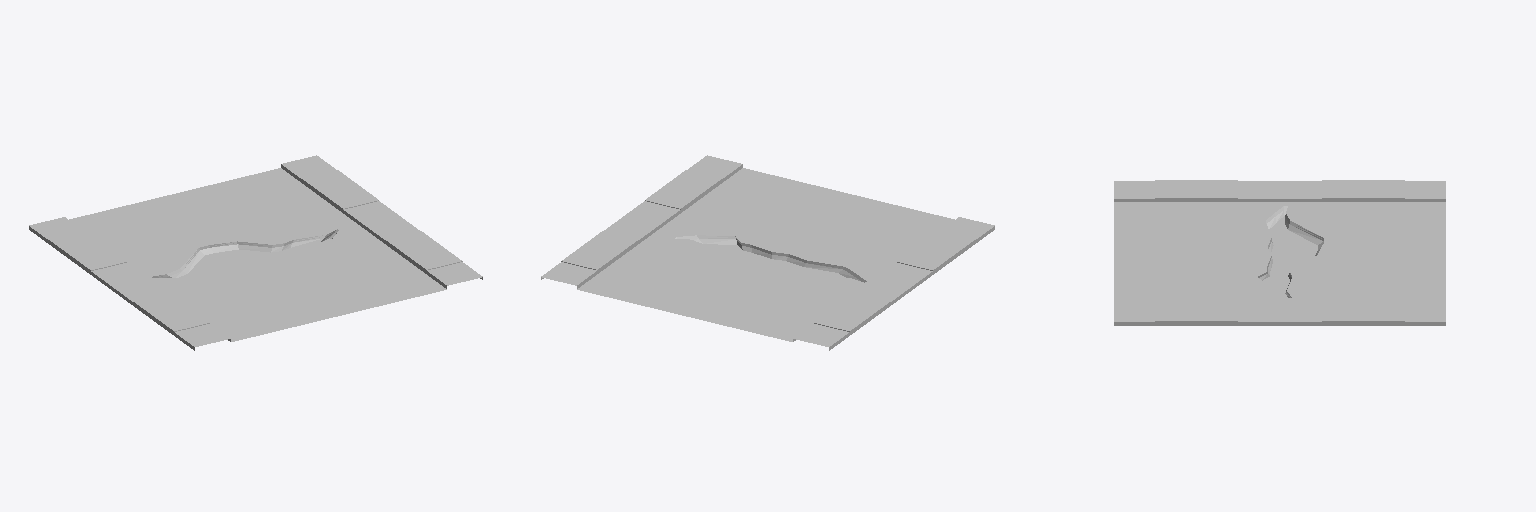
File: Street_Straight_Crack1.obj
The picture shows the model from 3 angles: view 1: azimuth 30°, elevation 25°; view 2: azimuth 150°, elevation 25°; view 3: azimuth 270°, elevation 25°; orthographic projection.
Visible parts, largest first — view 1: Street_Straight_Crack1_Cube.036; view 2: Street_Straight_Crack1_Cube.036; view 3: Street_Straight_Crack1_Cube.036.
Boxes of the visible parts, x1=… form: Street_Straight_Crack1_Cube.036: x1=29, y1=155, x2=482, y2=350; Street_Straight_Crack1_Cube.036: x1=541, y1=155, x2=994, y2=350; Street_Straight_Crack1_Cube.036: x1=1114, y1=180, x2=1445, y2=325.
Size of the model in its own units: 8 by 0.2852 by 8.